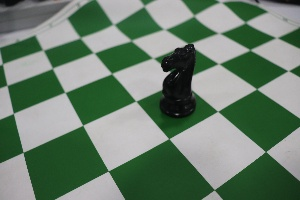black_horse: (154, 30, 201, 128)
